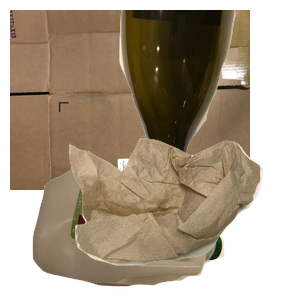cardboard: (10, 10, 250, 190)
glass: (117, 10, 300, 190)
plastic: (30, 159, 247, 300)
trash: (67, 136, 300, 300)
